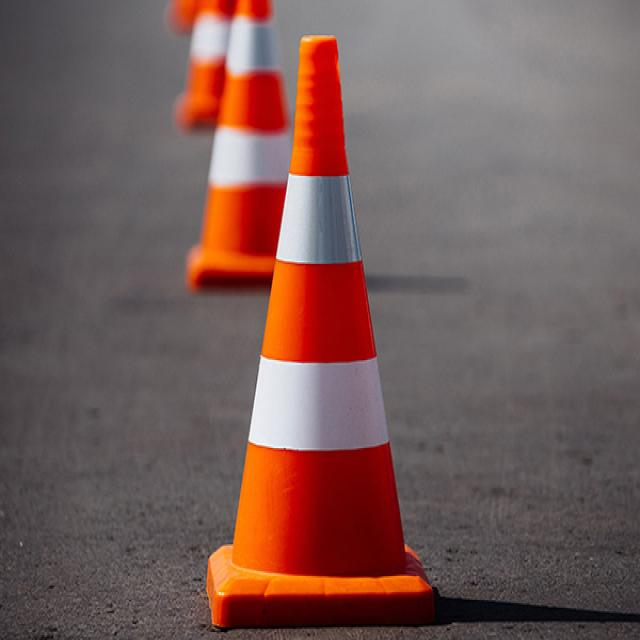Traffic Cone: (197, 10, 462, 640)
